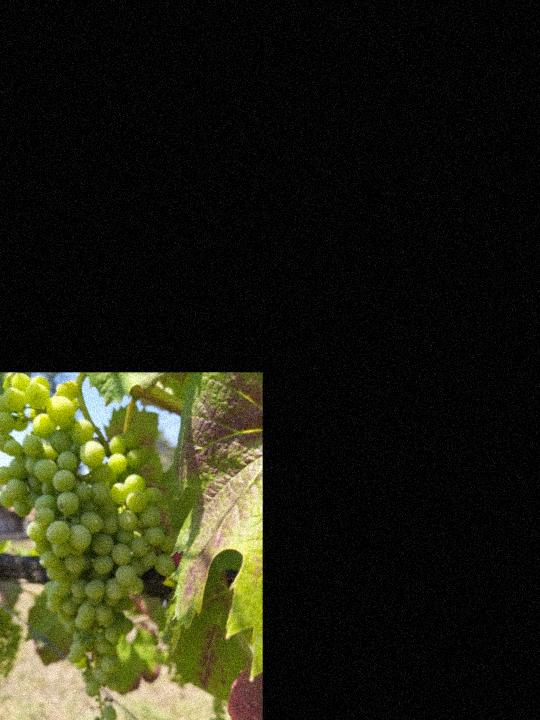grape: (0, 373, 174, 720)
